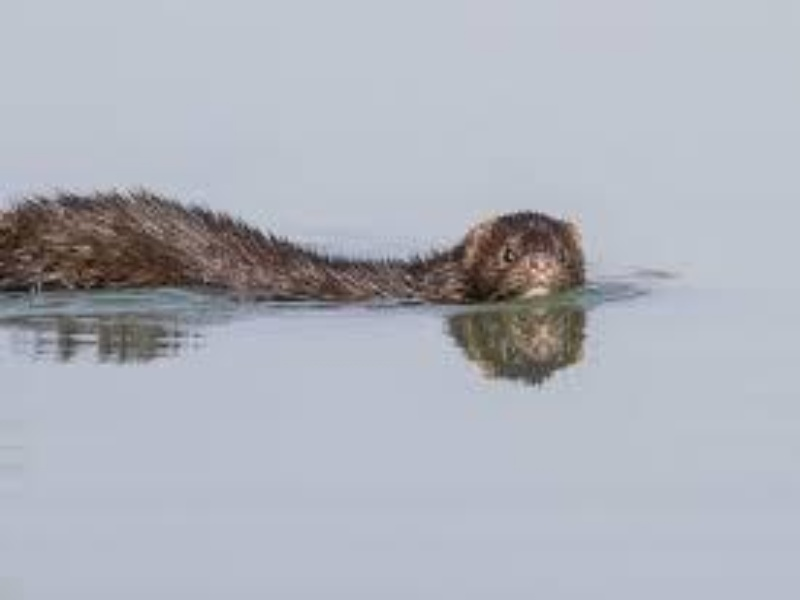minkish: (1, 181, 591, 301)
